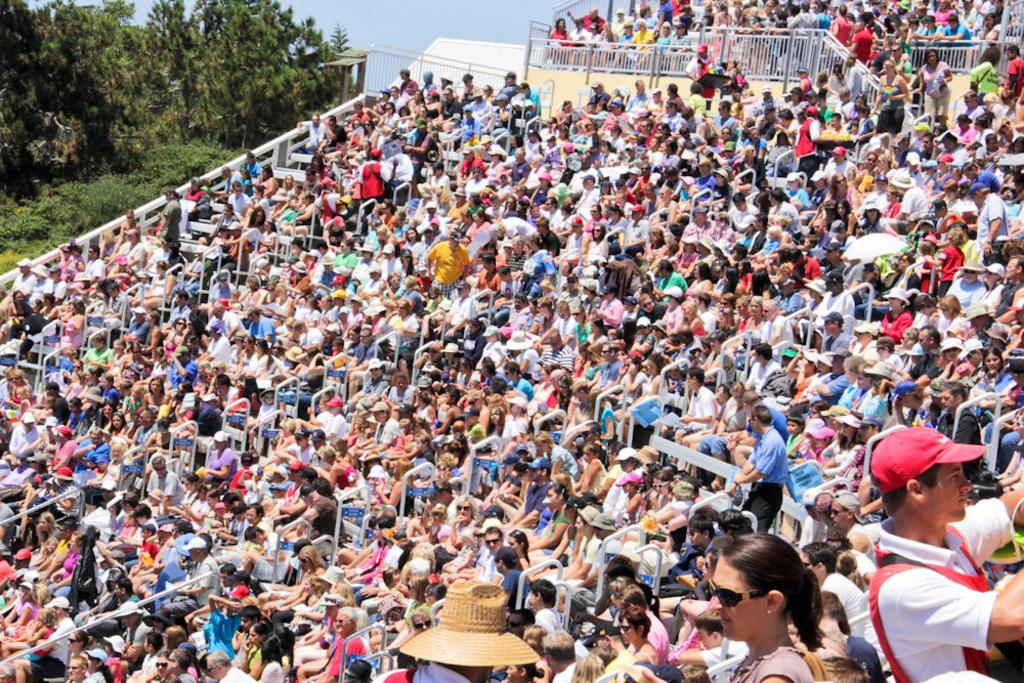Hat: (0, 0, 1022, 681)
